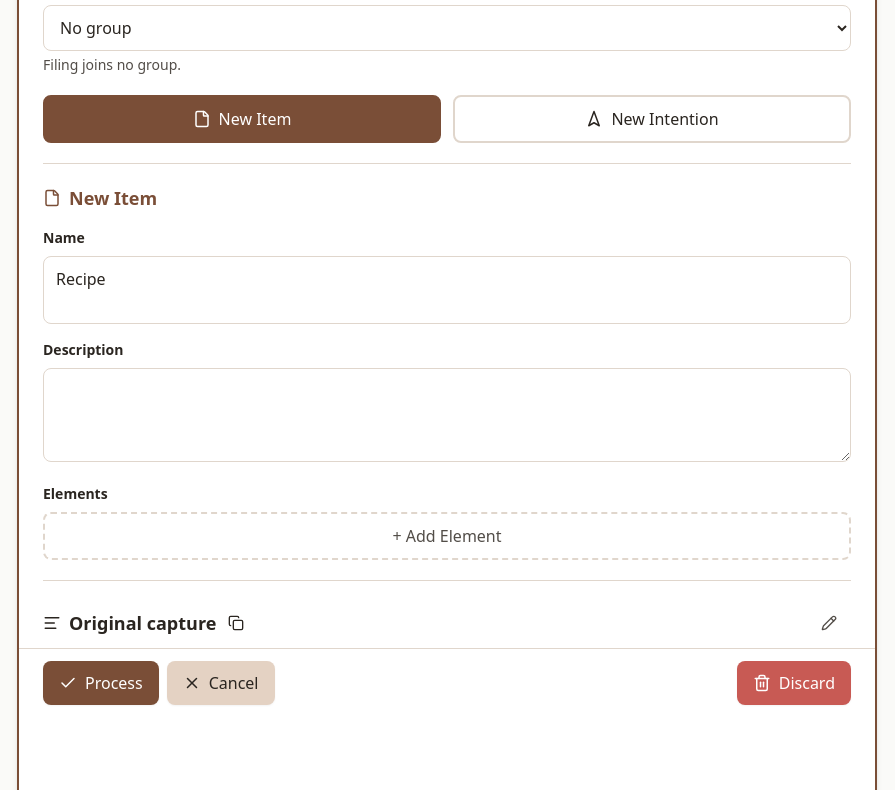
Test case: the element editor › adds an element
(page scrolled)
Click the button "+ Add Element": click(447, 536) left=43, top=512, right=851, bottom=560
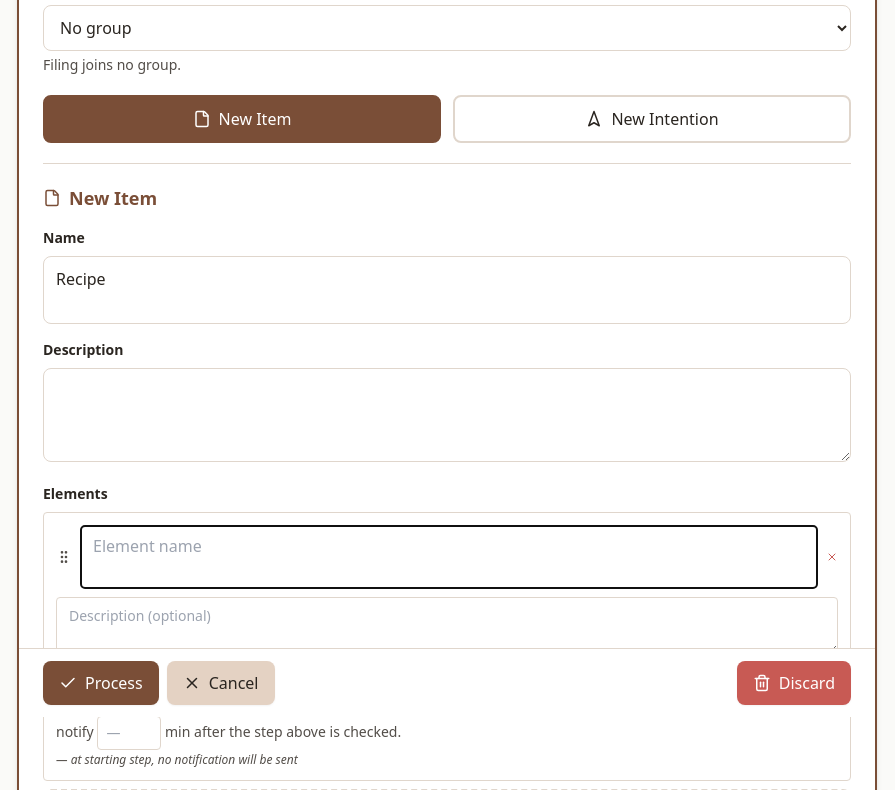
Expected: the text box with placeholder "Element name" is shown, left=80, top=525, right=818, bottom=589
